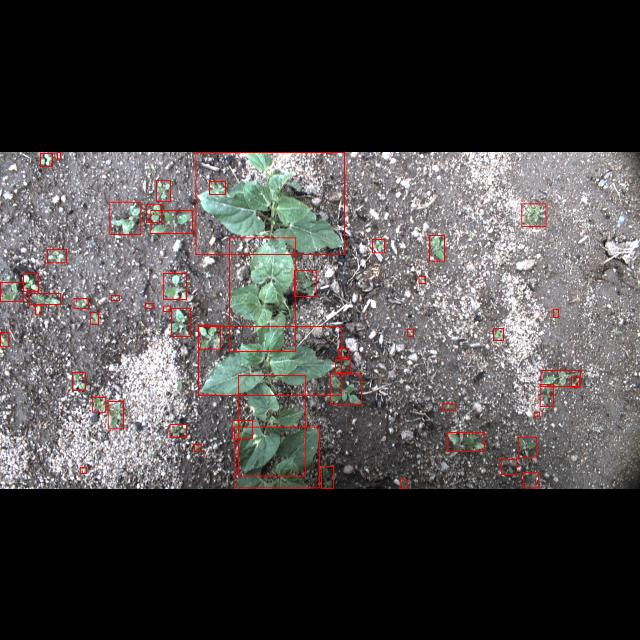crop: (196, 151, 344, 253), (198, 326, 342, 394), (229, 237, 295, 351), (239, 374, 305, 476), (234, 427, 320, 488)
weed: (110, 200, 140, 233), (331, 374, 362, 404), (150, 210, 192, 232), (448, 432, 484, 452), (163, 272, 187, 300), (541, 370, 581, 386), (294, 270, 316, 296), (522, 202, 546, 225), (198, 325, 220, 349), (172, 308, 190, 336), (108, 401, 124, 429), (0, 282, 24, 300), (233, 419, 253, 438), (519, 437, 537, 458), (30, 292, 60, 304), (430, 236, 444, 260), (540, 384, 554, 406), (146, 204, 162, 222), (156, 180, 170, 200), (321, 466, 333, 488), (72, 372, 86, 390), (24, 273, 38, 291), (48, 248, 66, 262), (501, 460, 517, 474), (92, 396, 106, 412), (524, 472, 538, 488), (209, 180, 225, 193), (336, 359, 350, 373), (170, 424, 186, 436), (372, 238, 384, 252), (40, 152, 52, 166), (0, 332, 10, 346), (74, 298, 88, 308), (494, 328, 504, 340), (91, 312, 99, 324), (338, 348, 348, 357), (442, 404, 456, 410), (571, 377, 579, 387), (35, 304, 41, 314), (110, 294, 120, 300), (194, 444, 202, 451), (401, 479, 407, 488), (407, 328, 413, 336), (145, 302, 153, 308), (163, 305, 170, 311), (419, 276, 425, 282), (80, 467, 86, 473), (554, 308, 558, 316), (534, 412, 540, 416), (58, 151, 61, 159)
